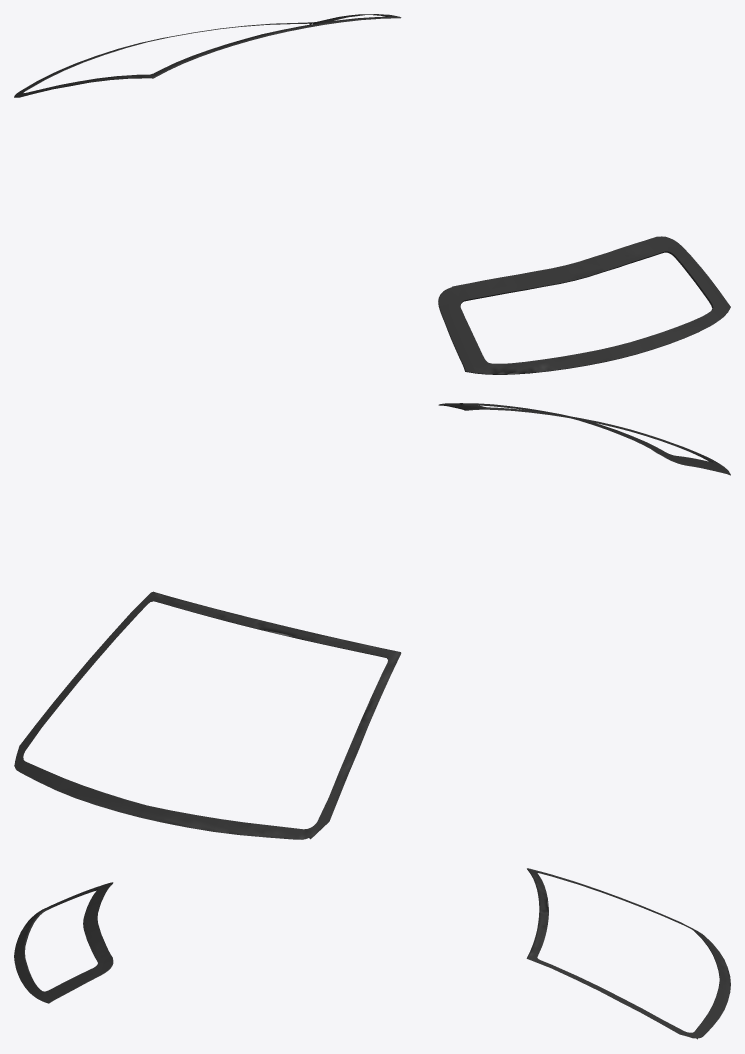
Rendered from cavity.glb.
3 views of the same model, one above another, from view 1: azimuth 30°, elevation 25°; view 2: azimuth 150°, elevation 25°; view 3: azimuth 270°, elevation 25° (orthographic). The views are drawn at different scales.
Parts seen in each view (by area): view 1: cavity; view 2: cavity; view 3: cavity.
Part boxes in pixels (left/top/right/bottom): cavity: left=14, top=14, right=730, bottom=374; cavity: left=14, top=403, right=730, bottom=839; cavity: left=14, top=868, right=730, bottom=1039.
Bounding box in the file's own units: 1.34 × 0.4282 × 3.61.
Materials: 1 (1 with a texture image).
